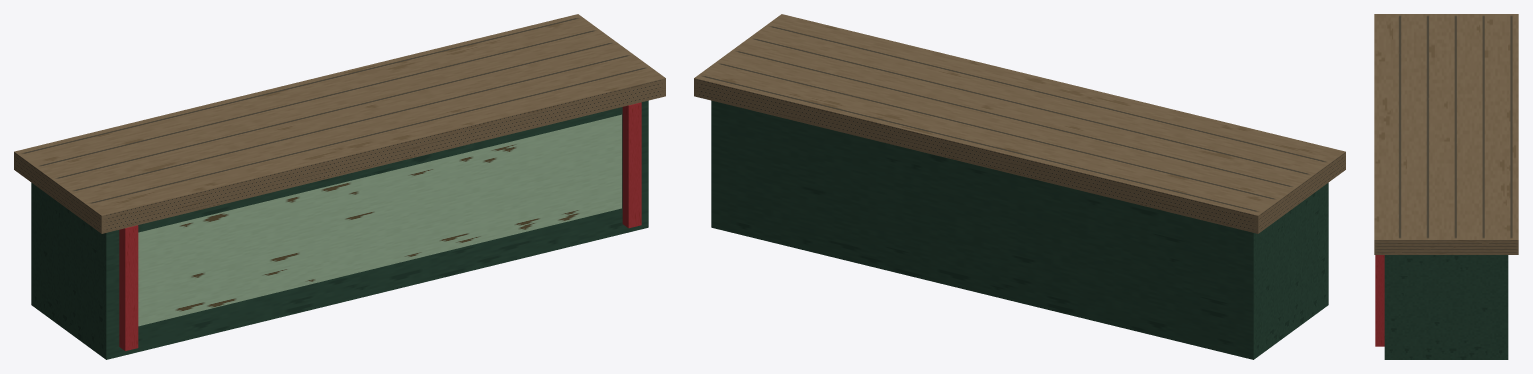
The model's file is PostalCounter.fbx.
3 views of the same model, side by side, from view 1: azimuth 30°, elevation 25°; view 2: azimuth 150°, elevation 25°; view 3: azimuth 270°, elevation 25° (orthographic). The views are drawn at different scales.
Visible parts, largest first — view 1: PostalCounter; view 2: PostalCounter; view 3: PostalCounter.
Part boxes in pixels (box(x1,y1,x2,y2)): PostalCounter: box(14, 14, 665, 359); PostalCounter: box(694, 14, 1345, 359); PostalCounter: box(1374, 14, 1518, 359).
Size of the model in its own units: 390 by 100 by 105.
